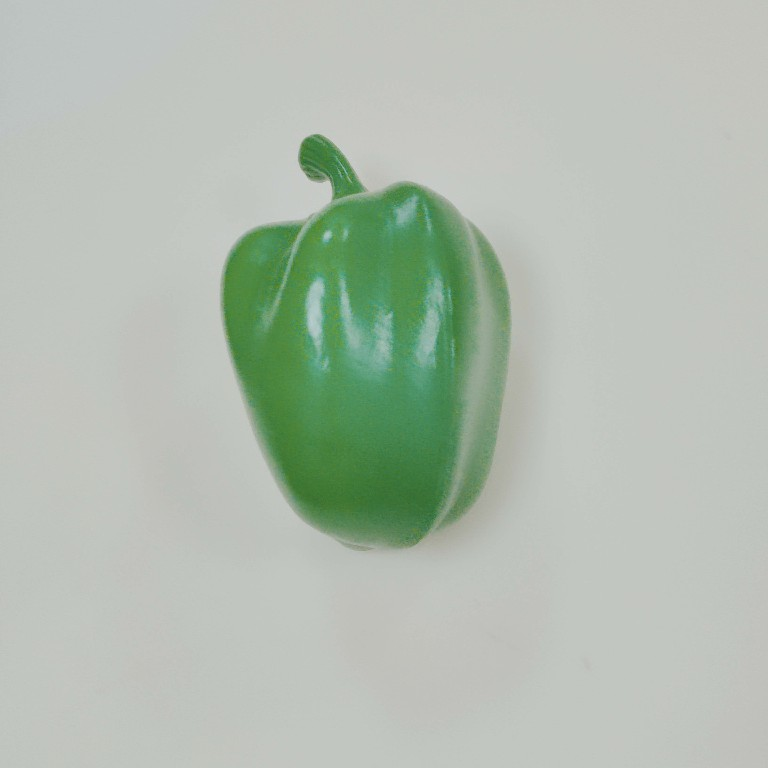fruit_pepper: (208, 125, 517, 557)
